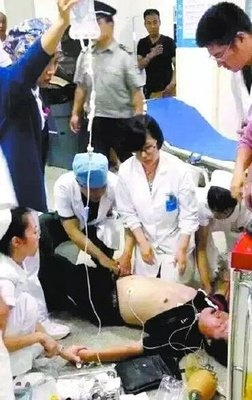falling: (16, 252, 237, 390)
